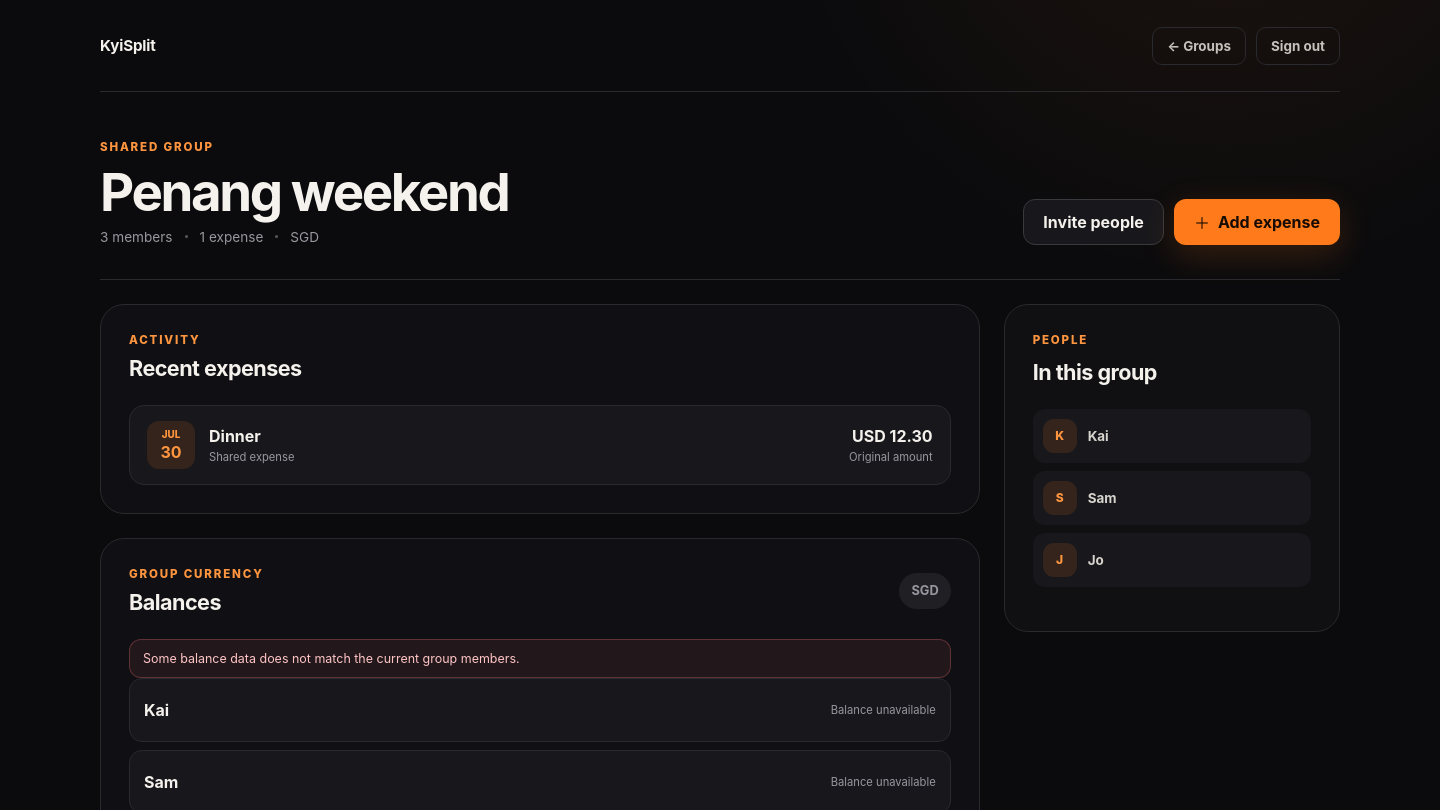
Scenario: presents stored expense detail and the correction policy
Click the button with aria-label "View details for Dinner" at (171, 445), box 129,405 -> 951,485
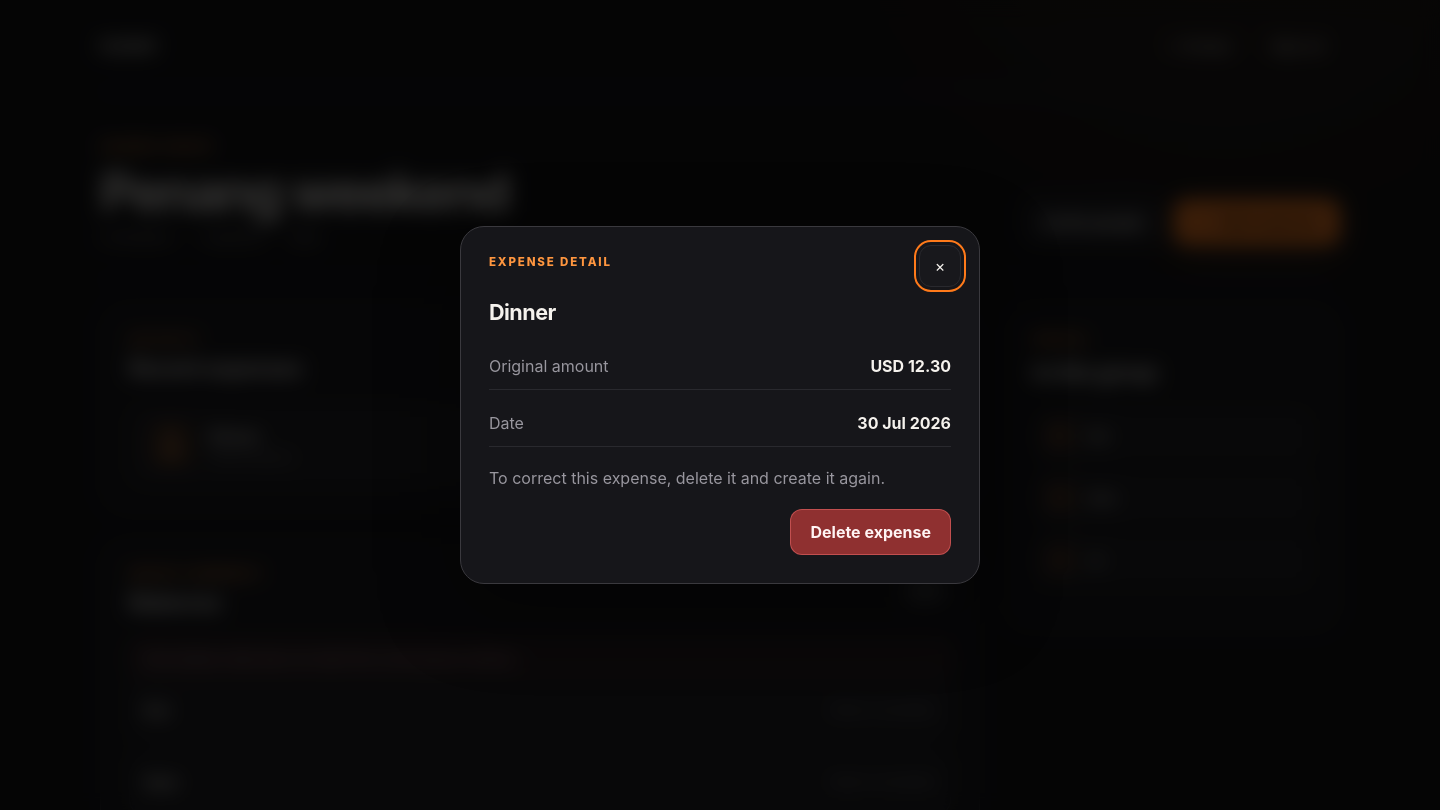
Expected: the text "USD 12.30" is shown, 870,356 -> 951,376
Expected: the text "30 Jul 2026" is shown, 857,413 -> 951,433
Expected: the text "To correct this expense, delete it and create it again." is shown, 489,465 -> 951,491
